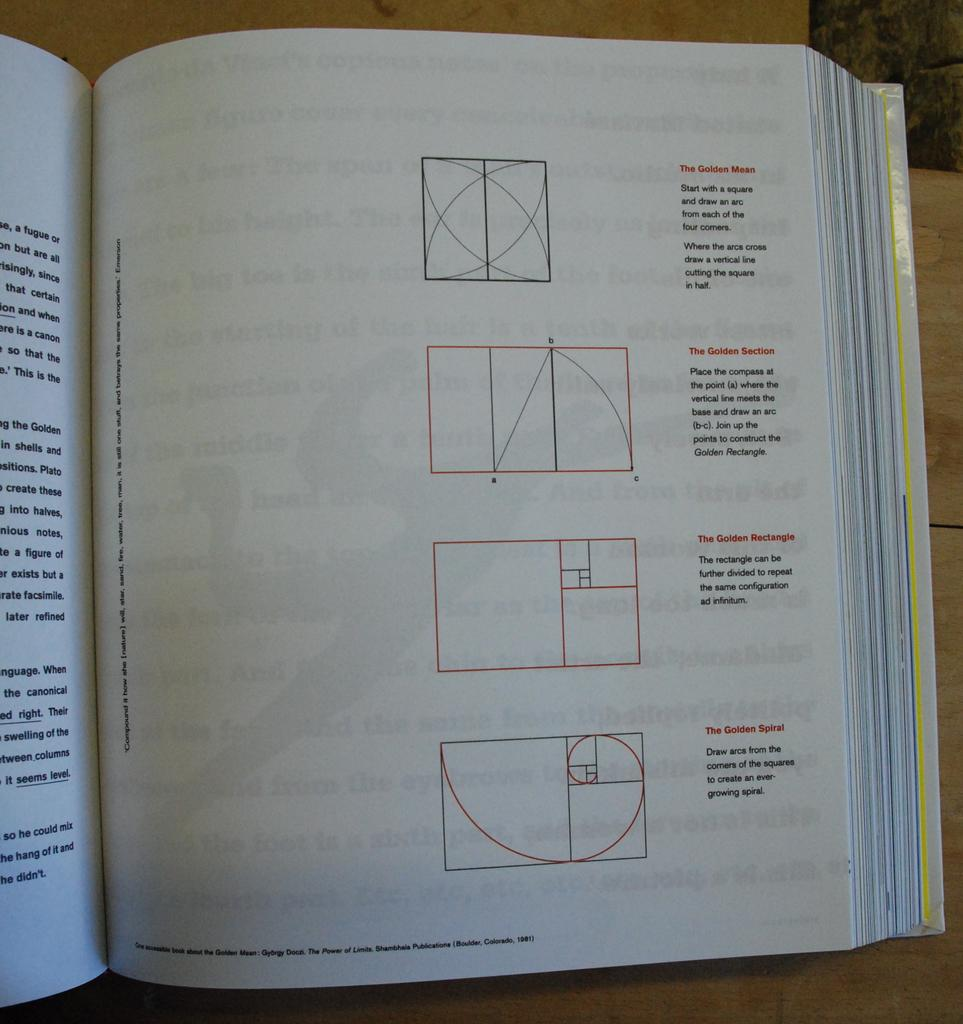Book: (6, 43, 963, 945)
